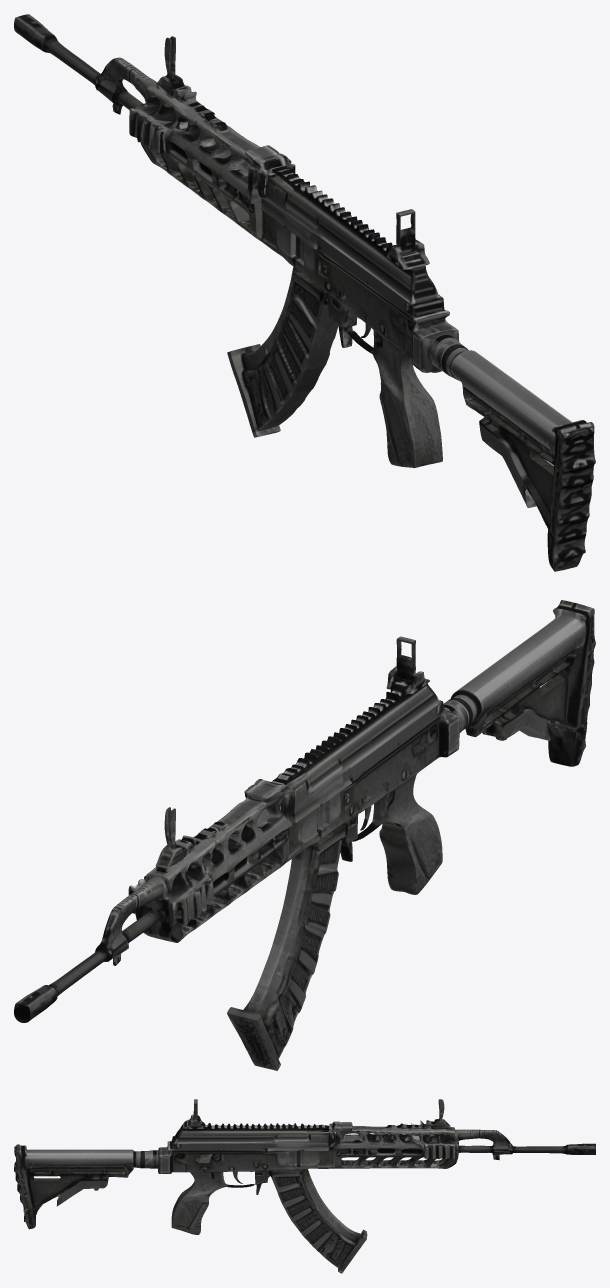
Rendered from P72 ASSAULT.glb.
The picture shows the model from 3 angles, top to bottom: view 1: azimuth 30°, elevation 25°; view 2: azimuth 150°, elevation 25°; view 3: azimuth 270°, elevation 25°; orthographic projection. The views are drawn at different scales.
Visible parts, largest first — view 1: tripo_node_d6bafcec-5a52-4556-a255-aeebc98bd8dc; view 2: tripo_node_d6bafcec-5a52-4556-a255-aeebc98bd8dc; view 3: tripo_node_d6bafcec-5a52-4556-a255-aeebc98bd8dc.
Part boxes in pixels (bbox=[...]): tripo_node_d6bafcec-5a52-4556-a255-aeebc98bd8dc: bbox=[14, 14, 595, 571]; tripo_node_d6bafcec-5a52-4556-a255-aeebc98bd8dc: bbox=[14, 600, 595, 1070]; tripo_node_d6bafcec-5a52-4556-a255-aeebc98bd8dc: bbox=[14, 1099, 595, 1273].
Size of the model in its own units: 0.0606 by 0.3245 by 1.
1 material, 1 textured.
